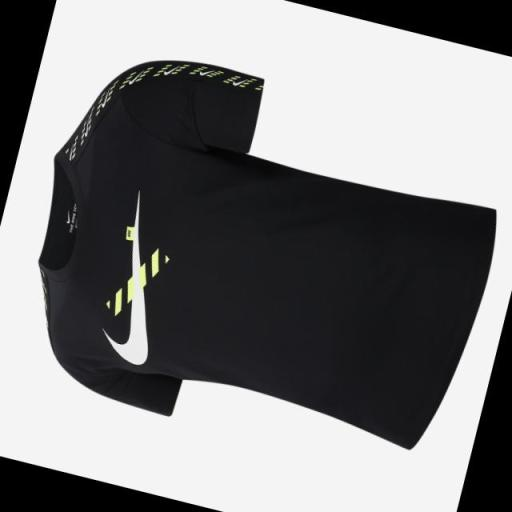Nike: (90, 184, 189, 372)
